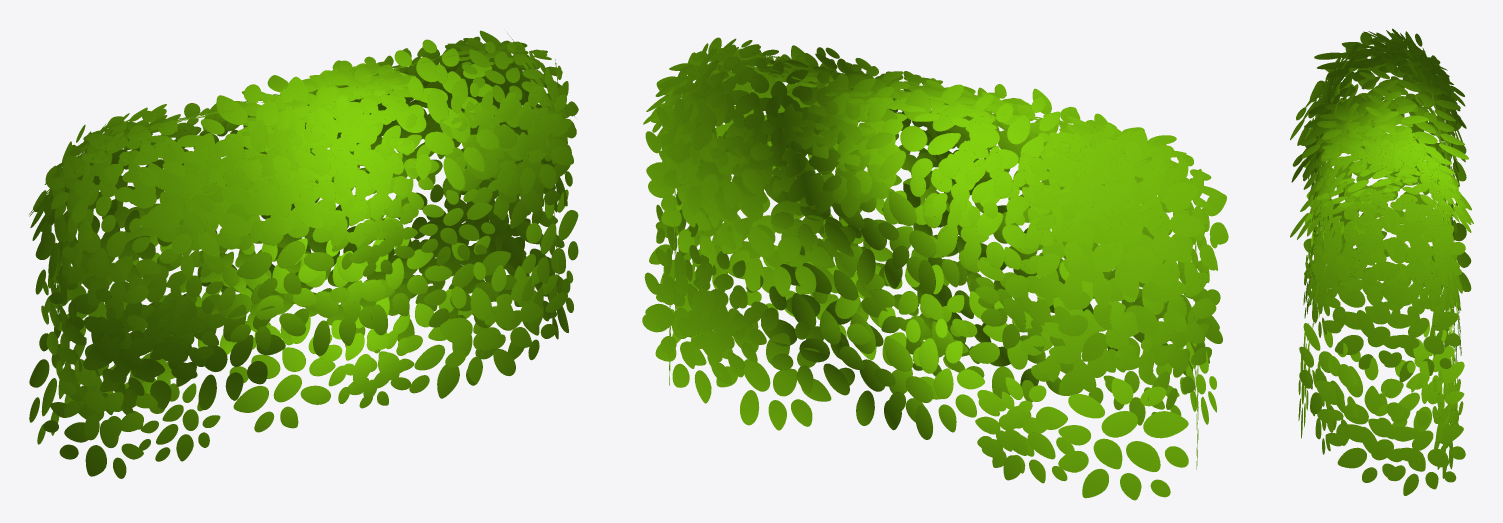
File: Bush_Large.glb
3 renders of one model, left to right at view 1: azimuth 30°, elevation 25°; view 2: azimuth 150°, elevation 25°; view 3: azimuth 270°, elevation 25°, orthographic. The views are drawn at different scales.
Visible parts, largest first — view 1: Bush_Large; view 2: Bush_Large; view 3: Bush_Large.
Boxes of the visible parts, x1,y1,x2,y2 form: Bush_Large: (29, 30, 578, 478); Bush_Large: (642, 37, 1228, 500); Bush_Large: (1290, 28, 1473, 495).
Bounding box in the file's own units: 1.9 × 1.22 × 0.7238.
1 material, 1 textured.
